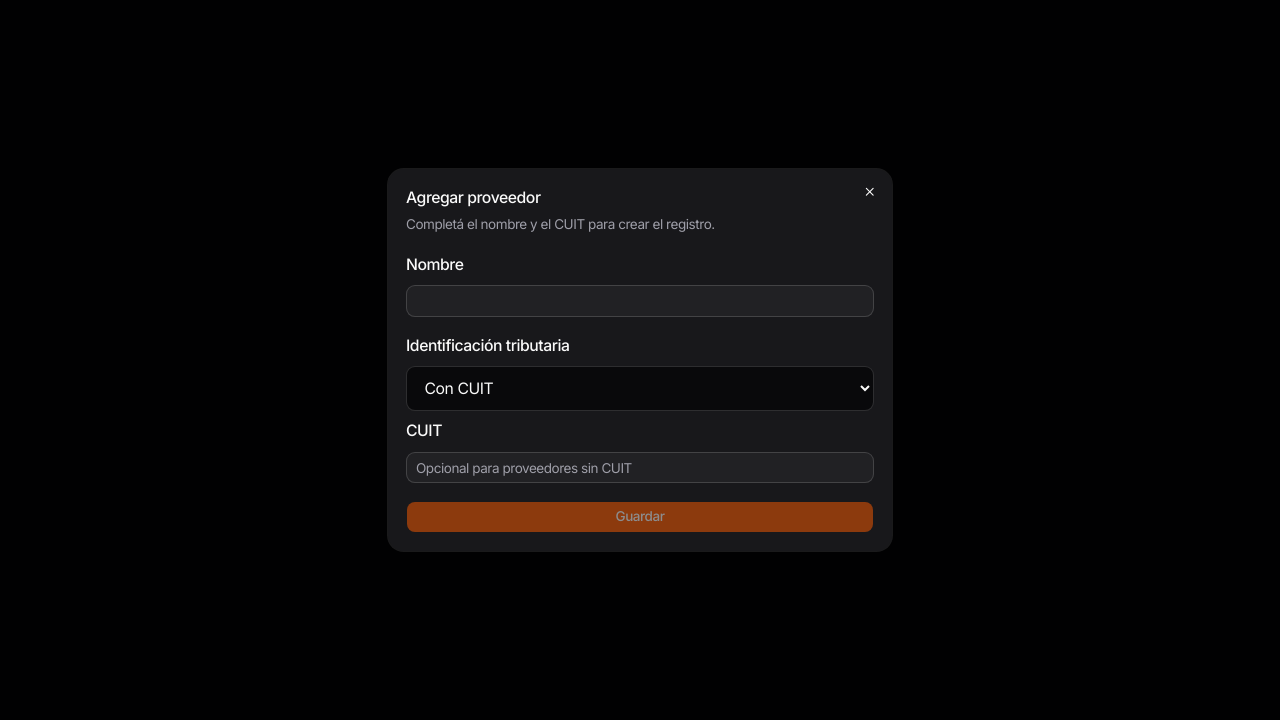
Test: ClientSupplierModal › hides and restores the supplier cuit input according to the selected tax identification mode
Expected: the field labelled "CUIT" is shown, x1=406 y1=452 x2=874 y2=484
Select "Sin CUIT" in the dropdown labelled "Identificación tributaria" at (640, 389), box x1=406 y1=366 x2=874 y2=412
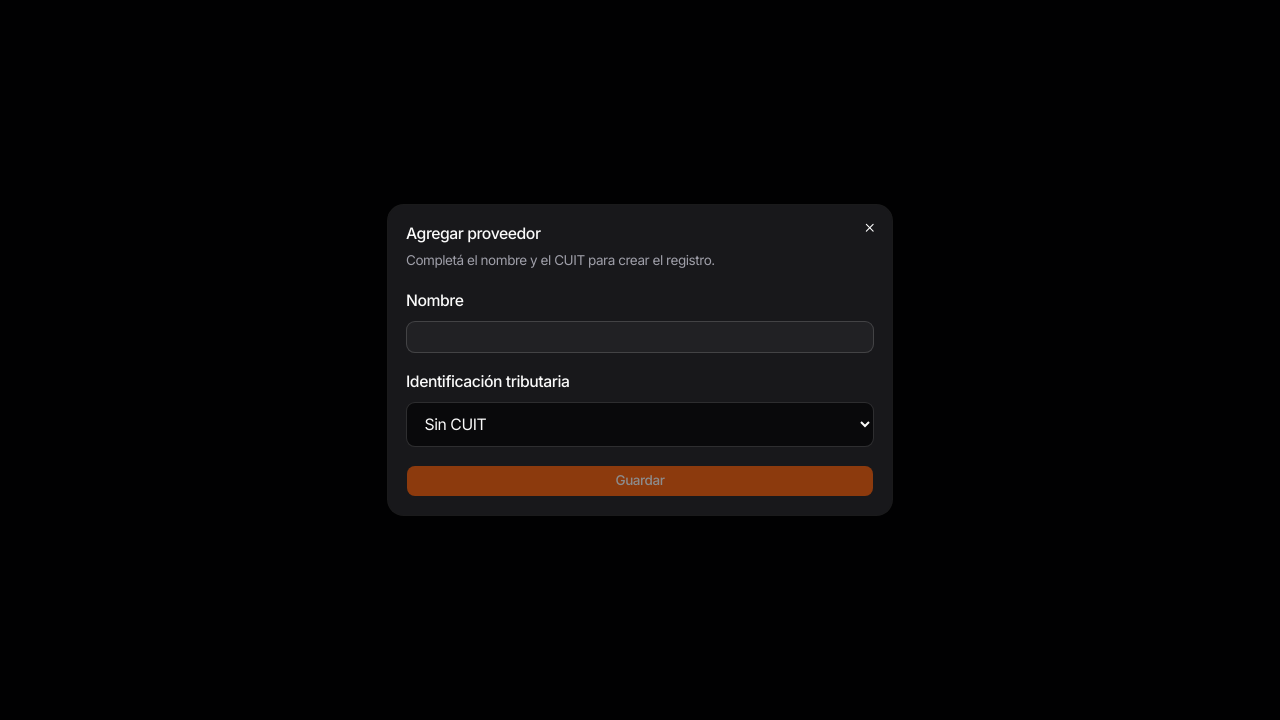
Select "Con CUIT" in the dropdown labelled "Identificación tributaria" at (640, 425), box x1=406 y1=402 x2=874 y2=448
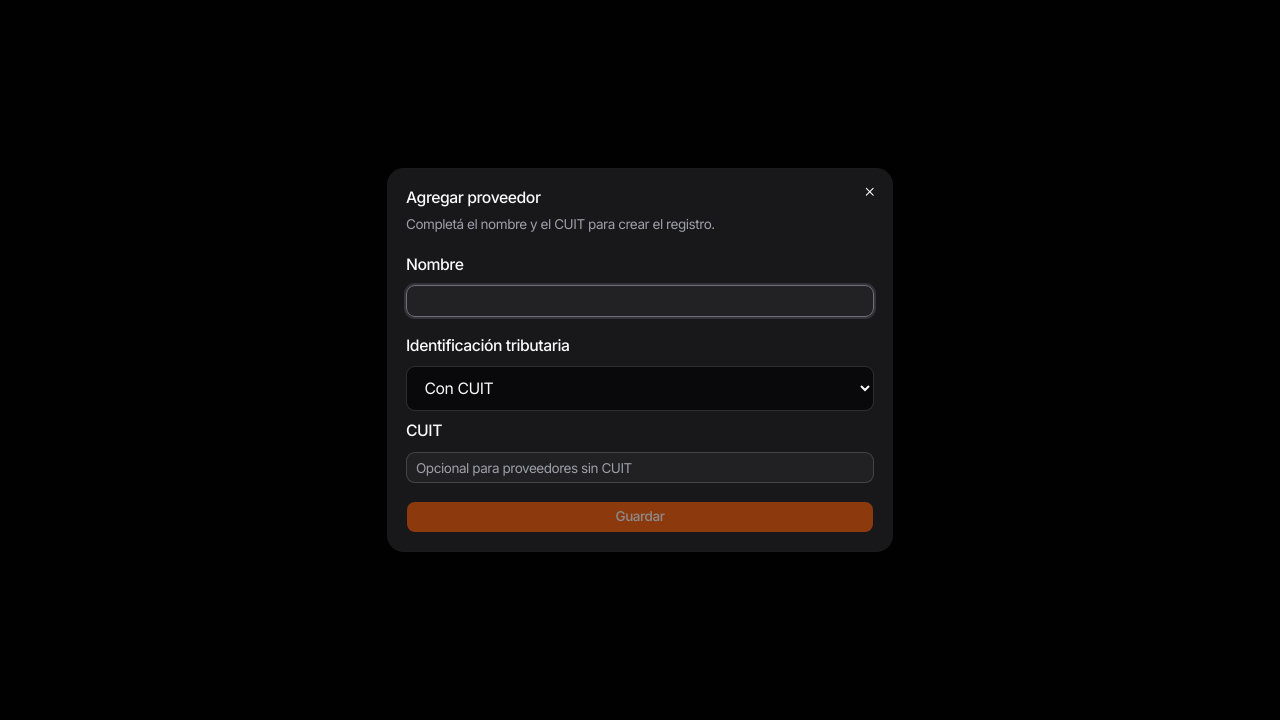
Expected: the field labelled "CUIT" is shown, x1=406 y1=452 x2=874 y2=484
